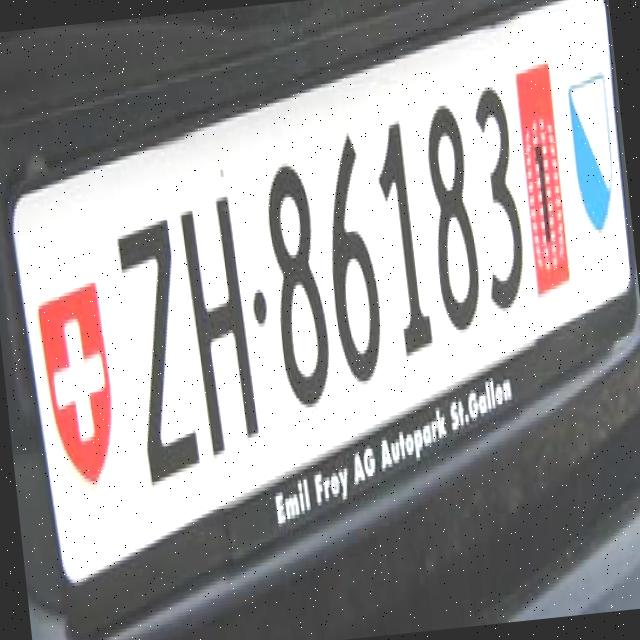Autre: (17, 0, 633, 587)
